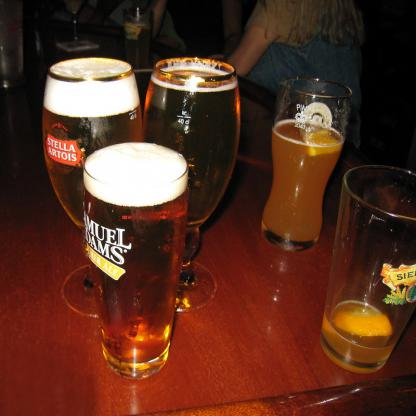drinking: (42, 58, 146, 317), (141, 58, 241, 313), (84, 142, 188, 380), (322, 164, 415, 375), (262, 77, 353, 253)
